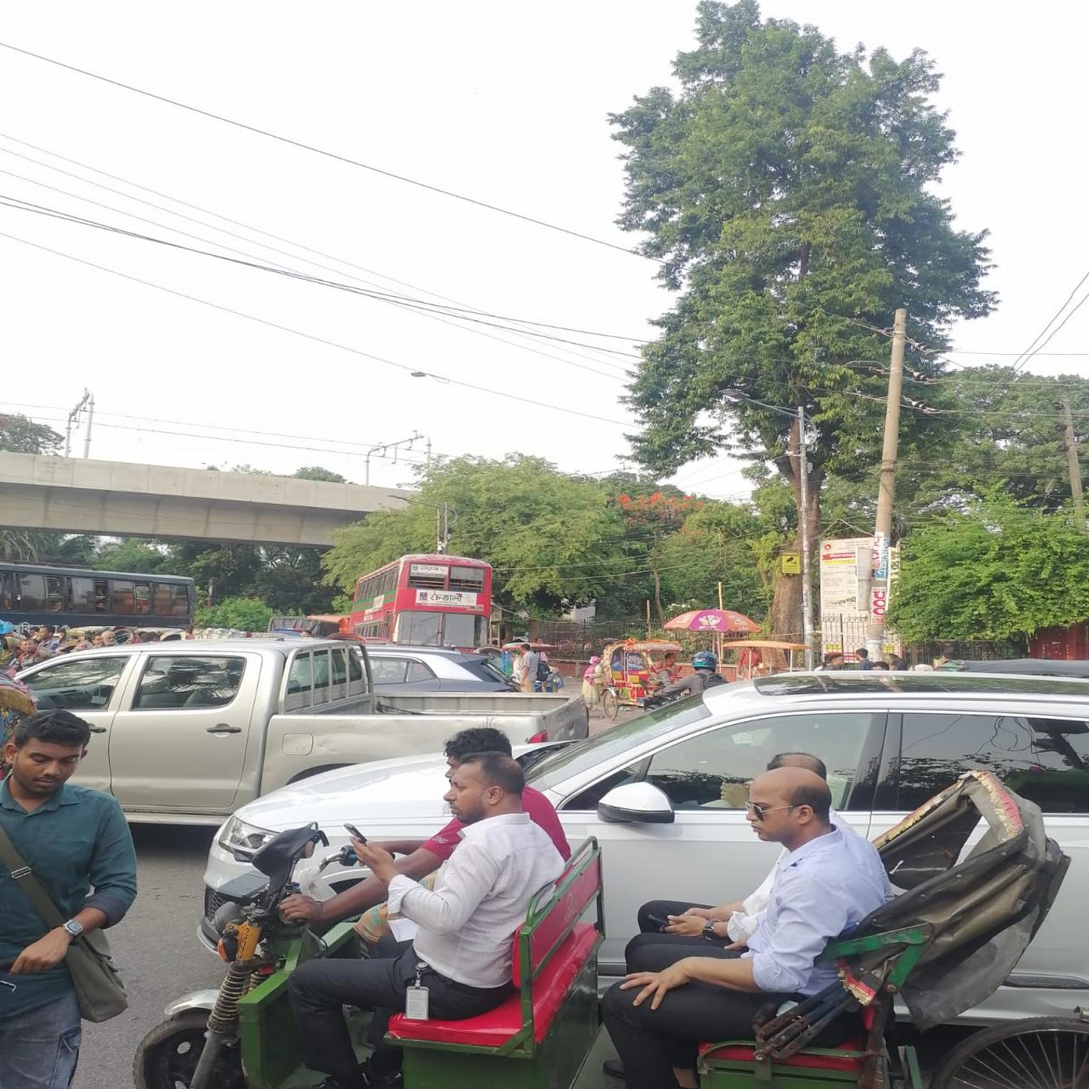person: (6, 714, 140, 1089)
